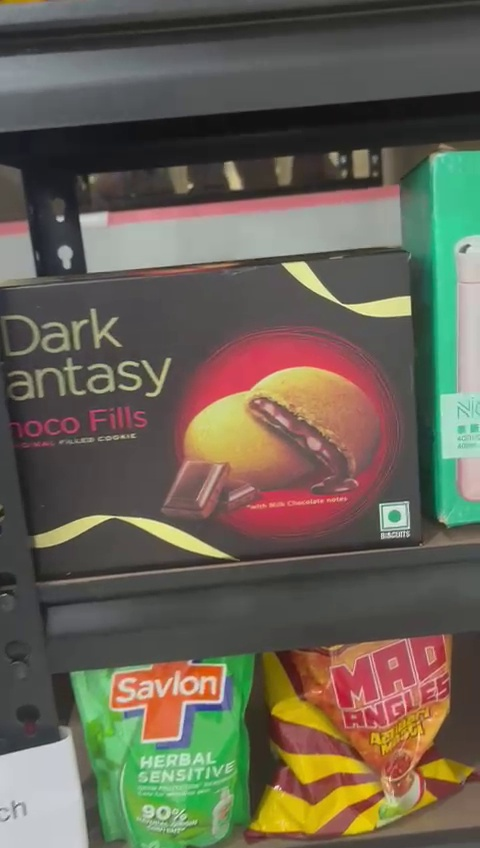Dark Fantasy: (1, 276, 423, 560)
